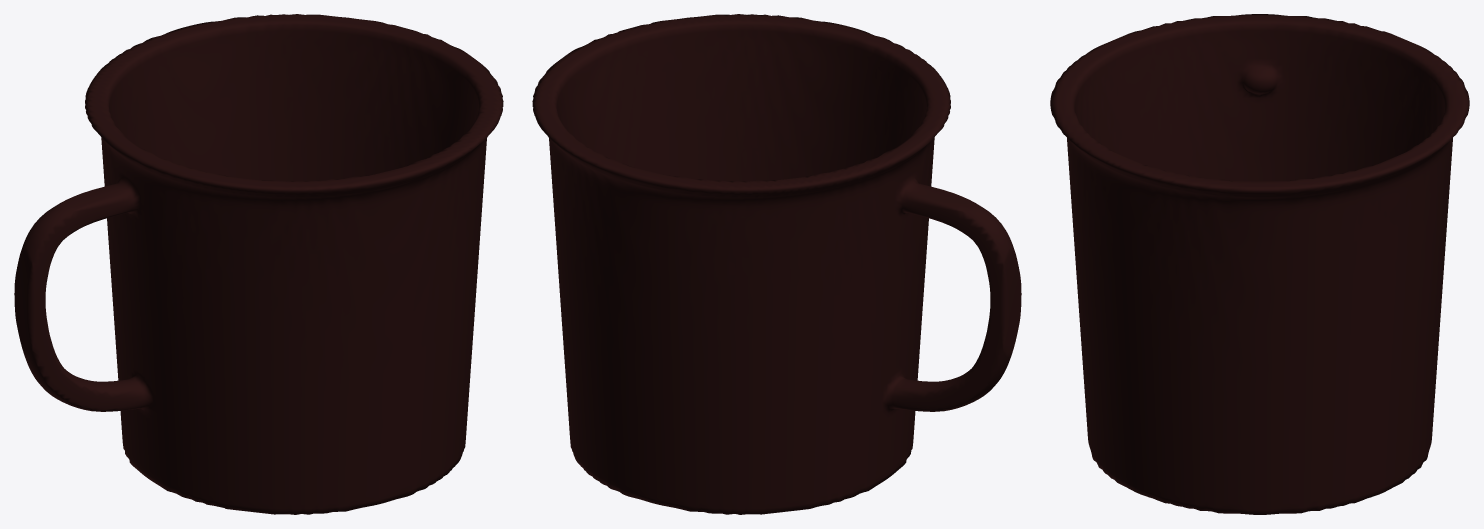
File: candidate.glb
3 renders of one model, left to right at view 1: azimuth 30°, elevation 25°; view 2: azimuth 150°, elevation 25°; view 3: azimuth 270°, elevation 25°, orthographic.
Parts seen in each view (by area): view 1: Photo-guided mug; view 2: Photo-guided mug; view 3: Photo-guided mug.
Part boxes in pixels (x1,y1,x2,y2): Photo-guided mug: (14,14,503,514); Photo-guided mug: (532,14,1021,514); Photo-guided mug: (1050,14,1469,514).
Size of the model in its own units: 1.7 by 1.22 by 1.36.
